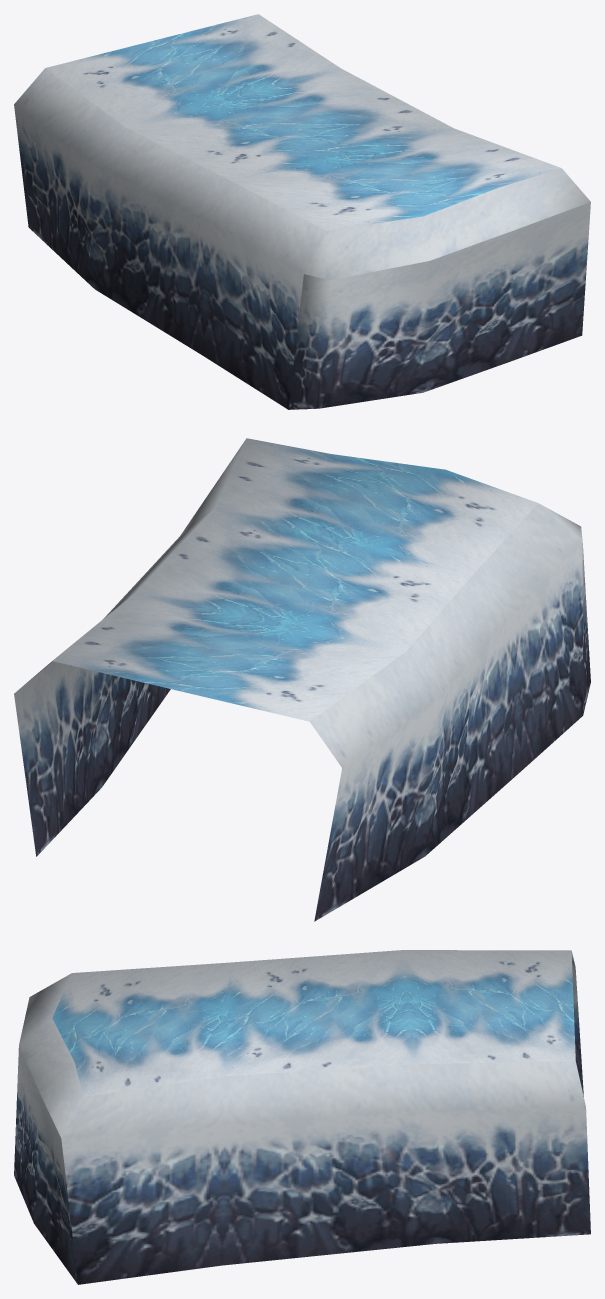
Rendered from bs_binshan_15.FBX.
The picture shows the model from 3 angles, top to bottom: view 1: azimuth 30°, elevation 25°; view 2: azimuth 150°, elevation 25°; view 3: azimuth 270°, elevation 25°; orthographic projection. The views are drawn at different scales.
Visible parts, largest first — view 1: bs_binshan_15; view 2: bs_binshan_15; view 3: bs_binshan_15.
Part boxes in pixels (bbox=[...]): bs_binshan_15: bbox=[14, 14, 590, 409]; bs_binshan_15: bbox=[14, 438, 590, 921]; bs_binshan_15: bbox=[14, 950, 590, 1284].
Bounding box in the file's own units: 2388 × 1164 × 3401.
